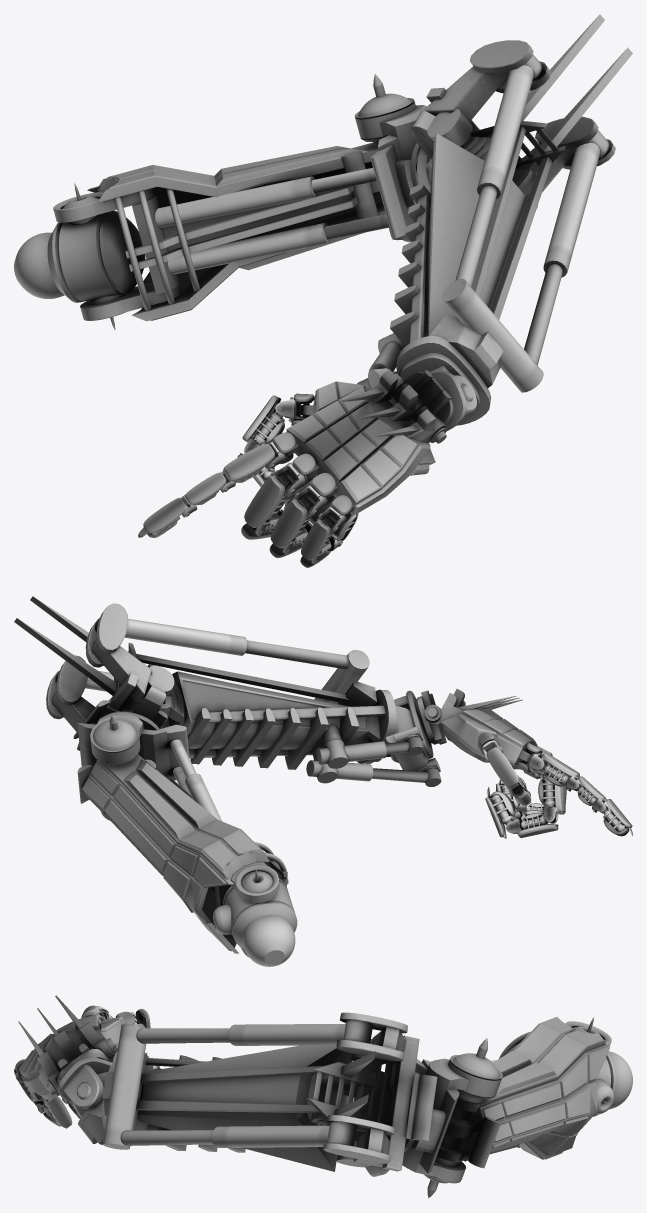
The model's file is robot_arm_wip_2.glb.
3 renders of one model, top to bottom at view 1: azimuth 30°, elevation 25°; view 2: azimuth 150°, elevation 25°; view 3: azimuth 270°, elevation 25°, orthographic. The views are drawn at different scales.
Parts seen in each view (by area): view 1: Cube, Cube.001, Cube.001_0.001; view 2: Cube, Cube.001, Cube.001_0.001; view 3: Cube, Cube.001, Cube.001_0.001.
Part boxes in pixels (box(x1,y1,x2,y2)): Cube: box(14, 14, 632, 475); Cube.001: box(138, 369, 476, 551); Cube.001_0.001: box(240, 453, 352, 567); Cube: box(14, 596, 441, 966); Cube.001: box(390, 689, 632, 836); Cube.001_0.001: box(485, 746, 566, 838); Cube: box(78, 1012, 632, 1198); Cube.001: box(18, 995, 150, 1128); Cube.001_0.001: box(14, 1043, 112, 1126).
Size of the model in its own units: 5.42 by 2.47 by 5.05.
Materials: 2 (2 with a texture image).
